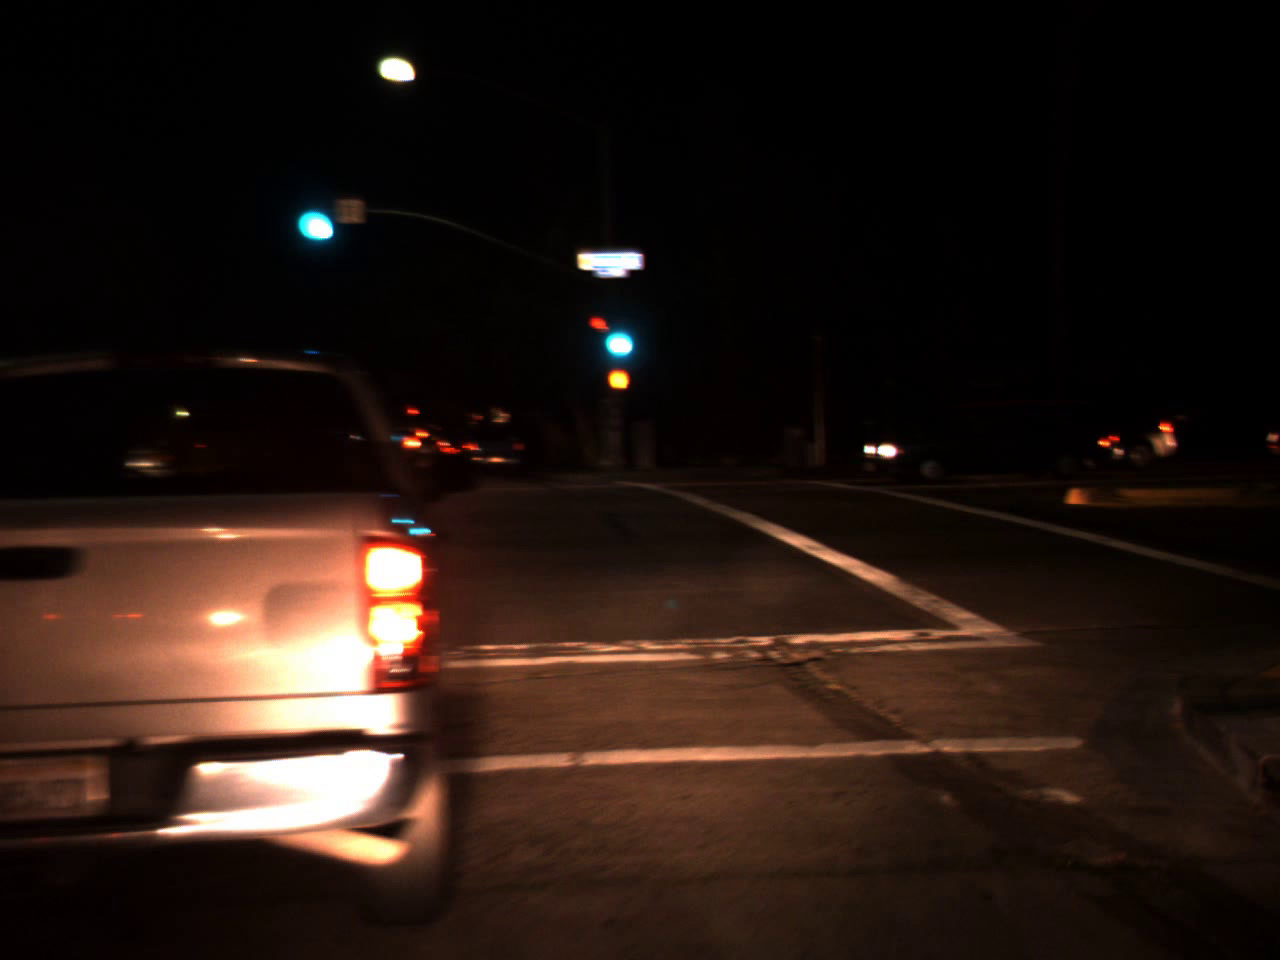go: (286, 174, 338, 252), (593, 301, 639, 367)
